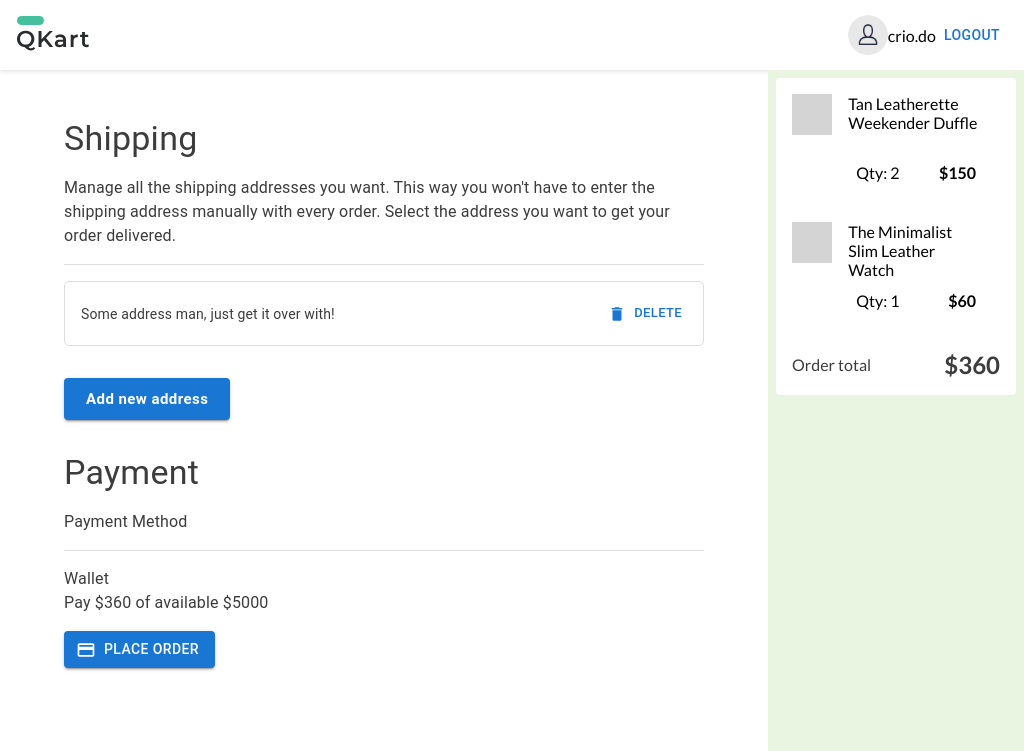
Checkout Page › allows to add new address
The image size is (1024, 751).
Expected: the field with placeholder "enter your complete address" is not shown
Click the button "Add new address": {"x": 147, "y": 399} [64, 378, 230, 420]
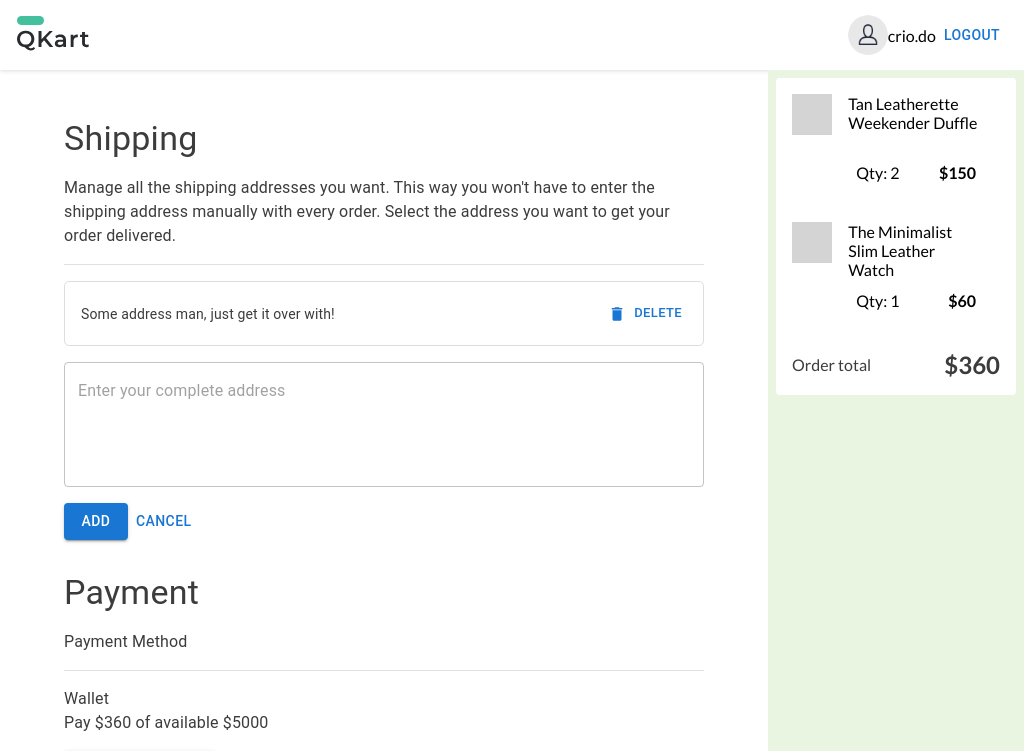
Expected: the text box with placeholder "Enter your complete address" is shown
In the text box with placeholder "Enter your complete address": {"x": 384, "y": 425} [78, 379, 690, 471], type "new address for me is here"
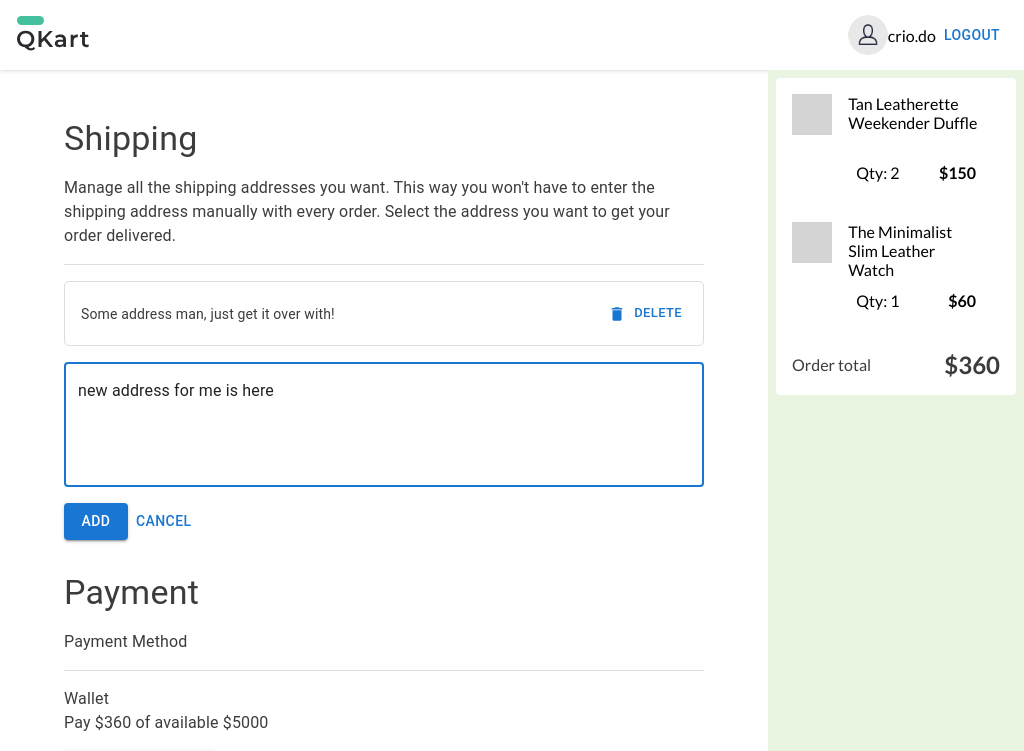
Click the button "Add": {"x": 96, "y": 521} [64, 503, 128, 540]
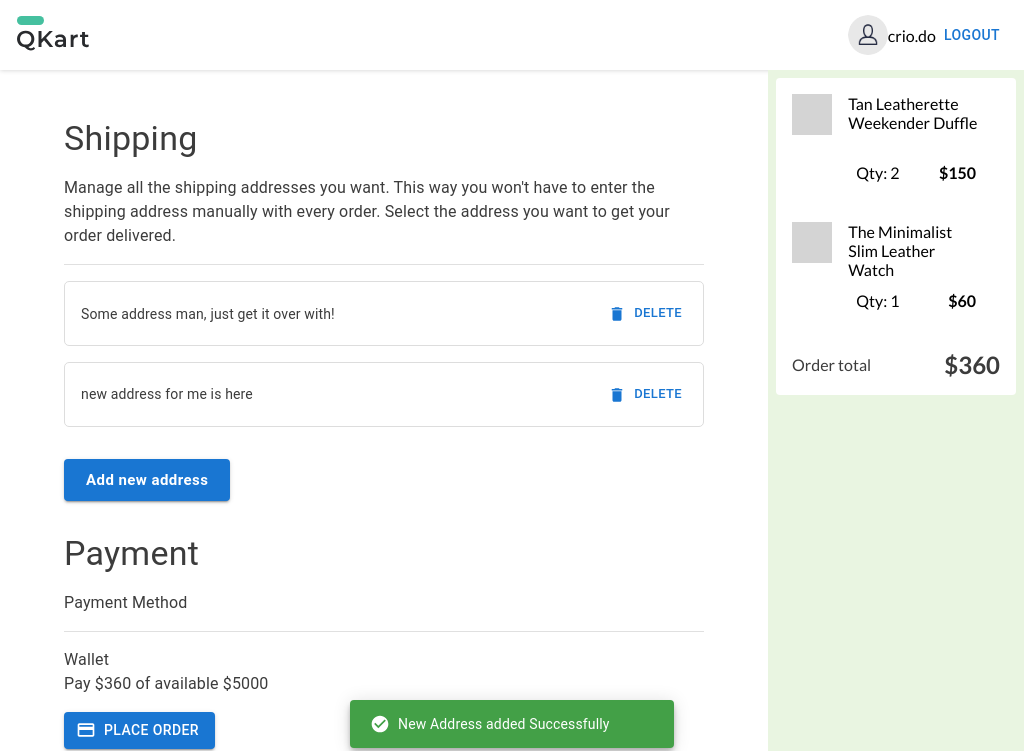
Expected: the text "new address for me is here Delete" is shown, [64, 362, 704, 427]
